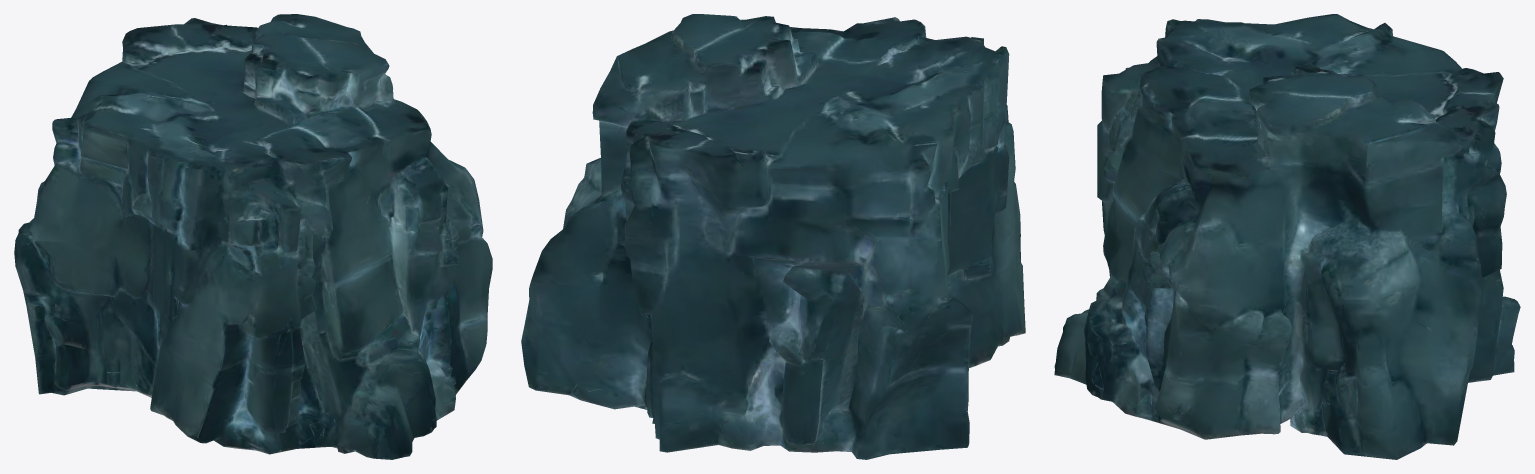
File: dungeonrockwall.glb
3 renders of one model, left to right at view 1: azimuth 30°, elevation 25°; view 2: azimuth 150°, elevation 25°; view 3: azimuth 270°, elevation 25°, orthographic. The views are drawn at different scales.
Visible parts, largest first — view 1: Mesh1.0; view 2: Mesh1.0; view 3: Mesh1.0.
Part boxes in pixels (box(x1,y1,x2,y2)): Mesh1.0: box(14, 14, 492, 459); Mesh1.0: box(521, 14, 1025, 459); Mesh1.0: box(1054, 14, 1520, 459).
Size of the model in its own units: 1.91 by 1.34 by 1.88.
Materials: 1 (1 with a texture image).
